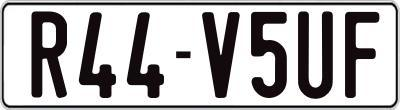4: (76, 11, 116, 101), (125, 11, 162, 101)
5: (248, 12, 284, 99)
F: (345, 11, 379, 98)
R: (30, 10, 71, 101)
U: (298, 8, 339, 100)
V: (202, 11, 243, 103)
